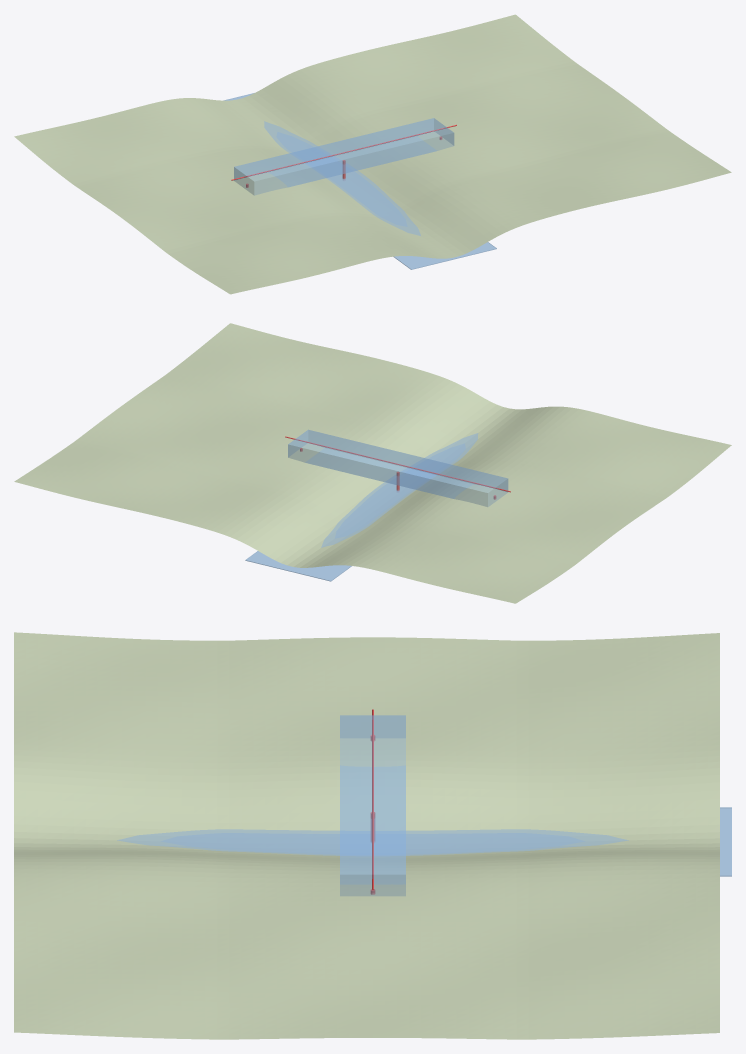
3 views of the same model, one above another, from view 1: azimuth 30°, elevation 25°; view 2: azimuth 150°, elevation 25°; view 3: azimuth 270°, elevation 25° (orthographic). The views are drawn at different scales.
Parts seen in each view (by area): view 1: 地形|現況地形 (参考), 概略形状|橋梁範囲ボックス, 地形|水面 (参考); view 2: 地形|現況地形 (参考), 概略形状|橋梁範囲ボックス, 地形|水面 (参考); view 3: 地形|現況地形 (参考), 概略形状|橋梁範囲ボックス, 地形|水面 (参考).
Part boxes in pixels (<box>): 地形|現況地形 (参考): <box>14,14,731,294</box>; 概略形状|橋梁範囲ボックス: <box>234,118,454,195</box>; 地形|水面 (参考): <box>223,93,496,269</box>; 地形|現況地形 (参考): <box>14,323,731,603</box>; 概略形状|橋梁範囲ボックス: <box>288,429,508,506</box>; 地形|水面 (参考): <box>245,433,478,581</box>; 地形|現況地形 (参考): <box>14,632,719,1039</box>; 概略形状|橋梁範囲ボックス: <box>340,715,405,895</box>; 地形|水面 (参考): <box>117,807,731,876</box>.
Size of the model in its own units: 158 by 11.3 by 120.
